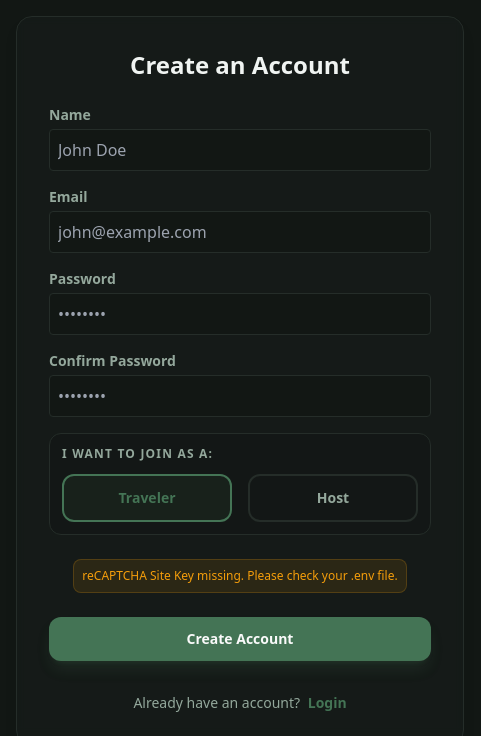
Signup Page › should show an error message when passwords do not match
The width and height of the screenshot is (481, 736).
In the field labelled "Name": (240, 150) [49, 129, 431, 171], type "Test User"
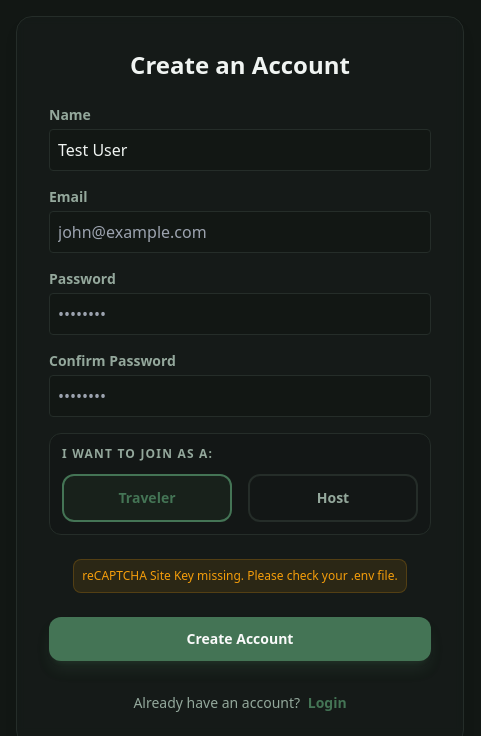
In the field labelled "Email": (240, 232) [49, 211, 431, 253], type "test@example.com"
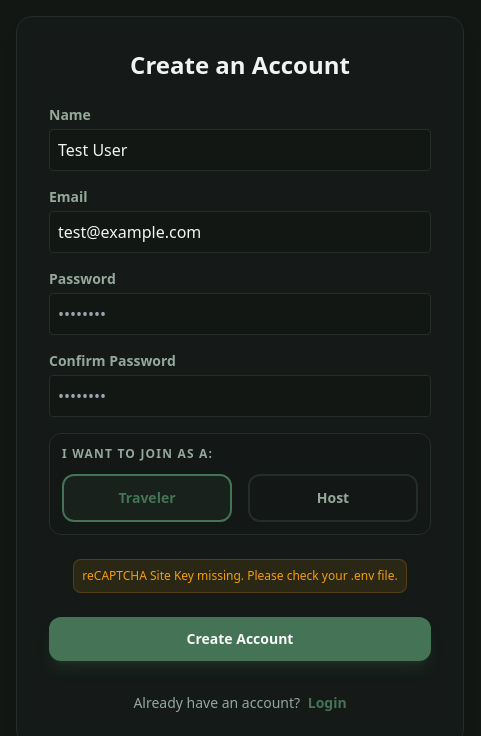
In the password field labelled "Password": (240, 314) [49, 293, 431, 335], type "password123"
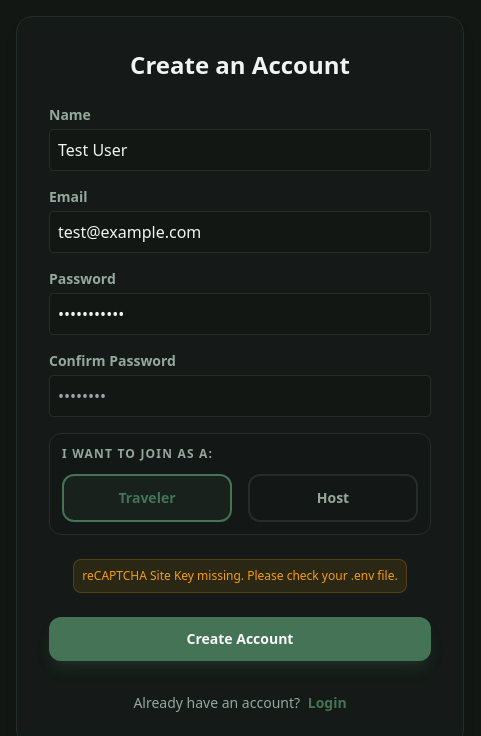
In the password field labelled "Confirm Password": (240, 396) [49, 375, 431, 417], type "different-password"
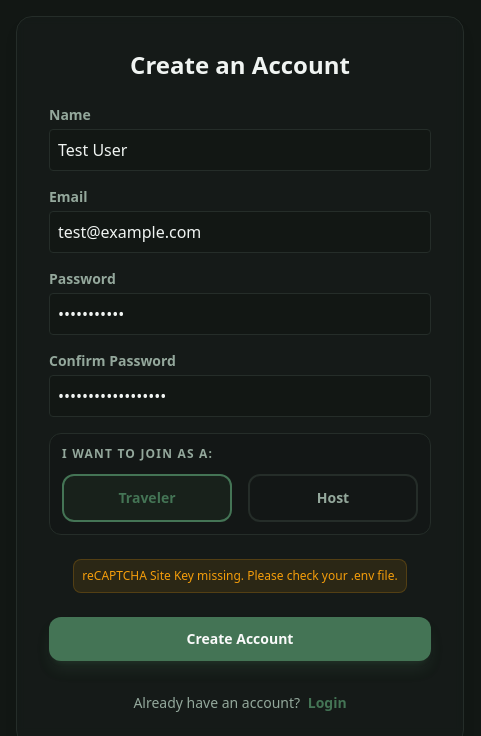
Submit the form, box [49, 105, 431, 661]
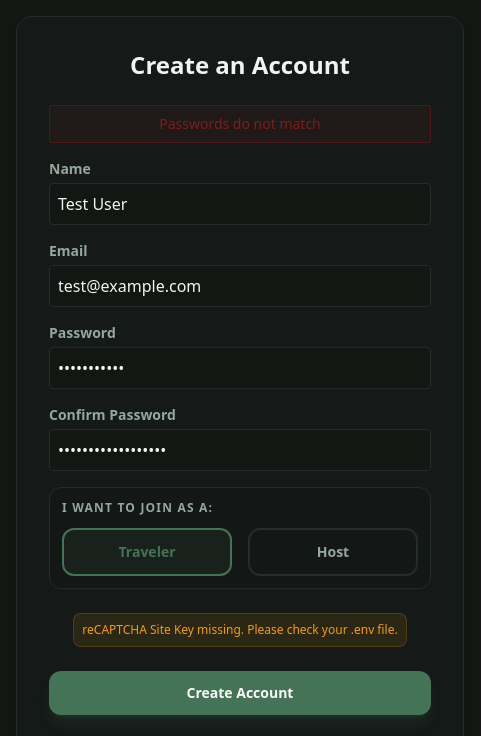
Now the text "Passwords do not match" is shown, box [49, 105, 431, 143]
